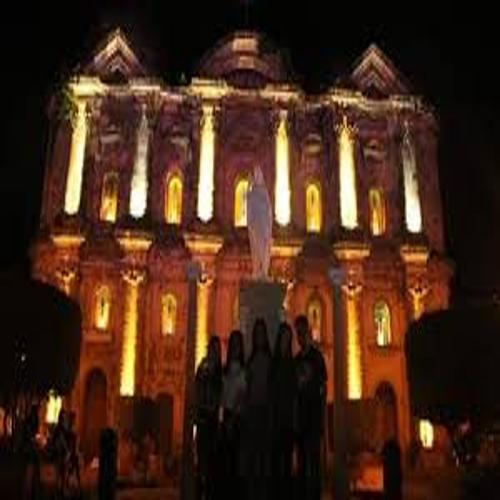Taal Basilica Church: (32, 25, 455, 485)
